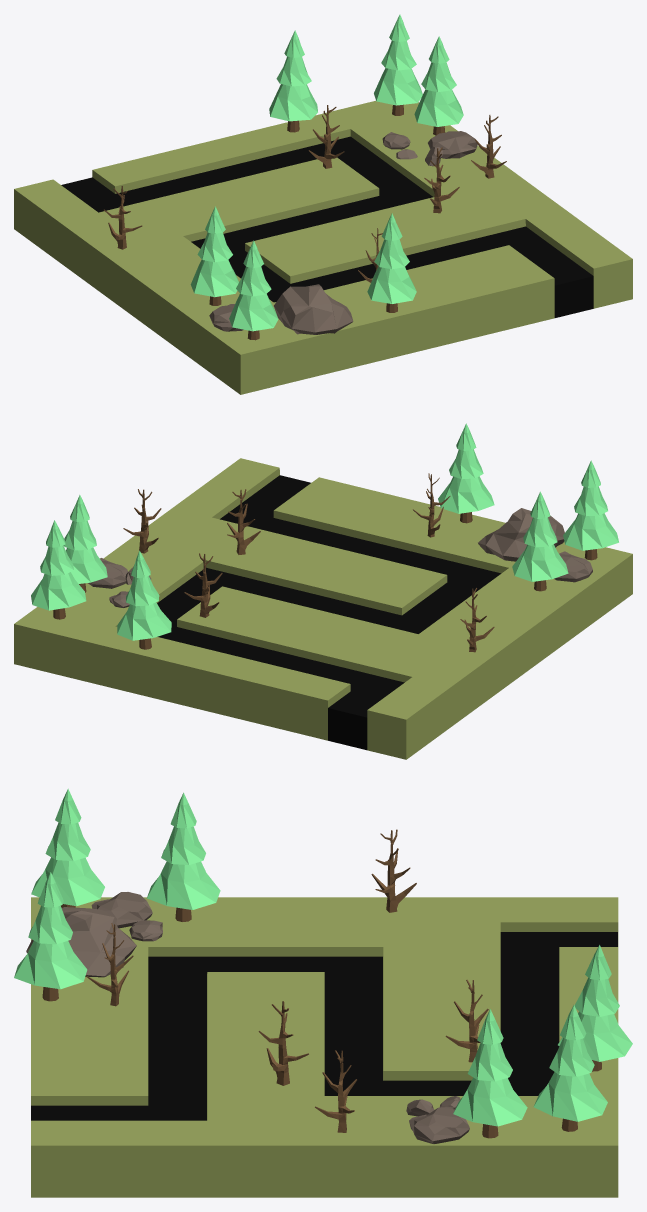
File: tower_defense_arena.glb
3 renders of one model, top to bottom at view 1: azimuth 30°, elevation 25°; view 2: azimuth 150°, elevation 25°; view 3: azimuth 270°, elevation 25°, orthographic. The views are drawn at different scales.
Parts seen in each view (by area): view 1: Plane.001, Rock.021, Tree.010, Tree.007, Tree.008, Tree.006, Tree.009, Tree.004, Rock.024, DeadTree.004, DeadTree.005, DeadTree.006 (+1 smaller); view 2: Plane.001, Tree.010, Tree.004, Tree.007, Tree.008, Tree.006, Tree.009, Rock.021, Rock.022, DeadTree.006, Rock.024, DeadTree.004 (+3 smaller); view 3: Plane.001, Tree.006, Tree.004, Tree.009, Tree.008, Tree.007, Tree.010, Rock.021, Rock.024, Rock.022, DeadTree.006, DeadTree.008 (+4 smaller).
Part boxes in pixels (left/top/right/bottom): Plane.001: left=14, top=100, right=632, bottom=394; Rock.021: left=274, top=284, right=353, bottom=334; Tree.010: left=269, top=30, right=317, bottom=132; Tree.007: left=229, top=240, right=278, bottom=340; Tree.008: left=374, top=14, right=422, bottom=115; Tree.006: left=367, top=213, right=416, bottom=312; Tree.009: left=414, top=36, right=463, bottom=135; Tree.004: left=190, top=206, right=238, bottom=305; Rock.024: left=428, top=131, right=477, bottom=158; DeadTree.004: left=308, top=105, right=344, bottom=168; DeadTree.005: left=471, top=115, right=506, bottom=178; DeadTree.006: left=424, top=147, right=459, bottom=213; Plane.001: left=14, top=458, right=632, bottom=759; Tree.010: left=117, top=550, right=171, bottom=649; Tree.004: left=512, top=491, right=568, bottom=591; Tree.007: left=563, top=460, right=618, bottom=560; Tree.008: left=31, top=520, right=86, bottom=619; Tree.006: left=438, top=423, right=494, bottom=523; Tree.009: left=63, top=495, right=107, bottom=592; Rock.021: left=478, top=508, right=564, bottom=561; Rock.022: left=554, top=551, right=592, bottom=582; DeadTree.006: left=227, top=489, right=260, bottom=554; Rock.024: left=88, top=558, right=127, bottom=588; DeadTree.004: left=184, top=553, right=222, bottom=617; Plane.001: left=31, top=897, right=618, bottom=1197; Tree.006: left=14, top=872, right=87, bottom=1001; Tree.004: left=147, top=792, right=220, bottom=921; Tree.009: left=453, top=1009, right=527, bottom=1138; Tree.008: left=533, top=1005, right=607, bottom=1131; Tree.007: left=31, top=788, right=104, bottom=907; Tree.010: left=558, top=945, right=632, bottom=1071; Rock.021: left=26, top=907, right=136, bottom=977; Rock.024: left=409, top=1107, right=469, bottom=1143; Rock.022: left=91, top=892, right=152, bottom=928; DeadTree.006: left=258, top=1001, right=308, bottom=1085; DeadTree.008: left=371, top=829, right=416, bottom=912.
Bounding box in the file's own units: 10.21 × 3.35 × 10.54.
